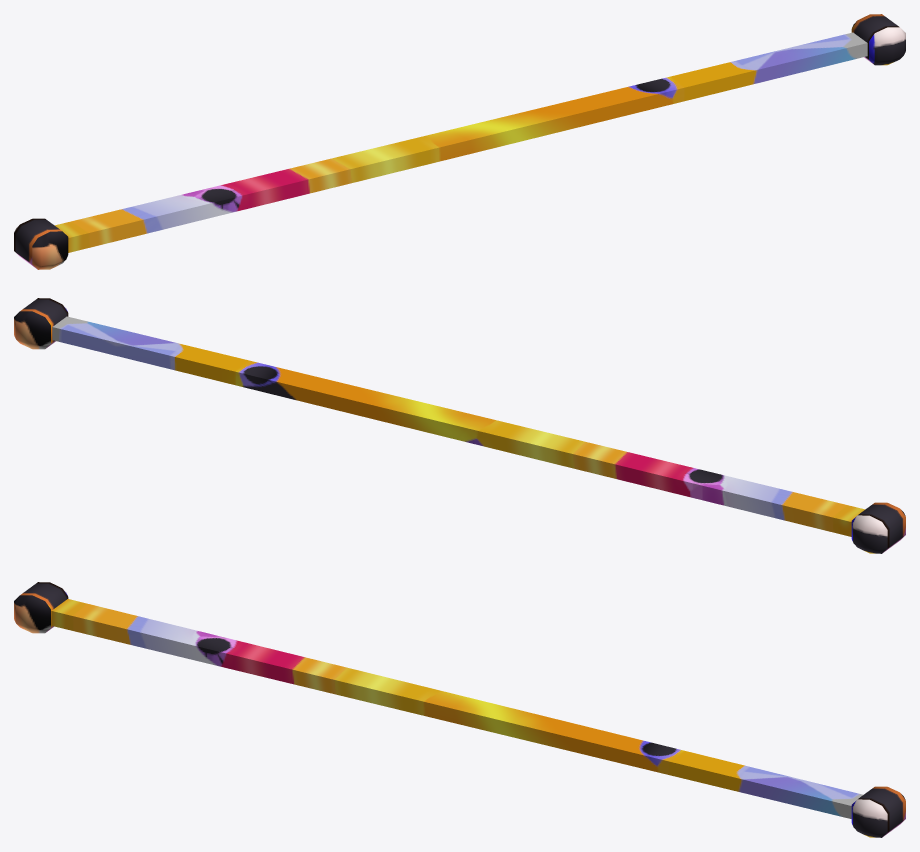
Rendered from dif2.1.fbx.
3 renders of one model, top to bottom at view 1: azimuth 30°, elevation 25°; view 2: azimuth 150°, elevation 25°; view 3: azimuth 330°, elevation 25°, orthographic.
Visible parts, largest first — view 1: Cube.008; view 2: Cube.008; view 3: Cube.008.
Boxes of the visible parts, box(x1,y1,x2,y2) form: Cube.008: box(14, 14, 905, 269); Cube.008: box(14, 298, 905, 553); Cube.008: box(14, 582, 905, 837).
Size of the model in its own units: 2499 by 104 by 142.
